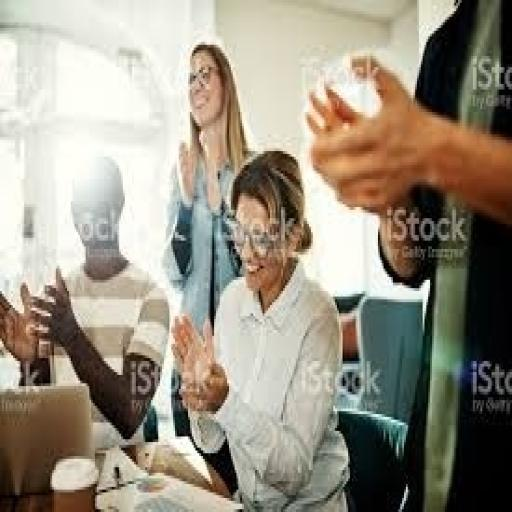clapping: (302, 0, 510, 509), (167, 146, 352, 509), (4, 151, 171, 451)
